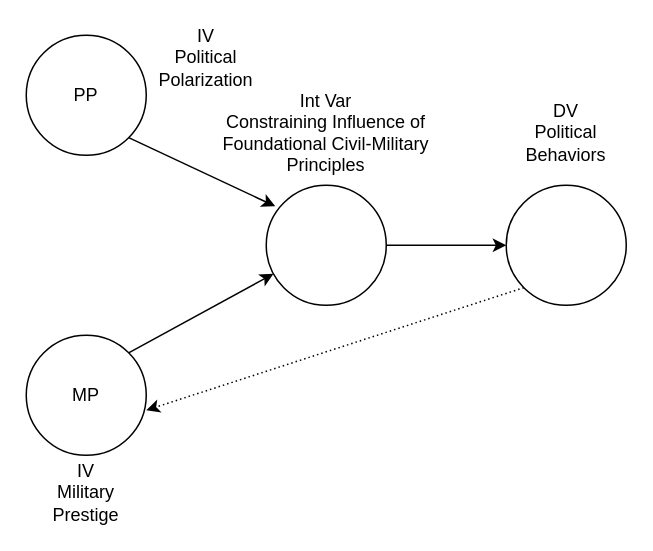
Image size: 653x551. Some labels were removed from this diagram. The box of each missing label's shape, as (x1, y1, x2, y2) in pixels:
CI: (265, 184, 386, 305)
PB: (505, 184, 626, 305)
